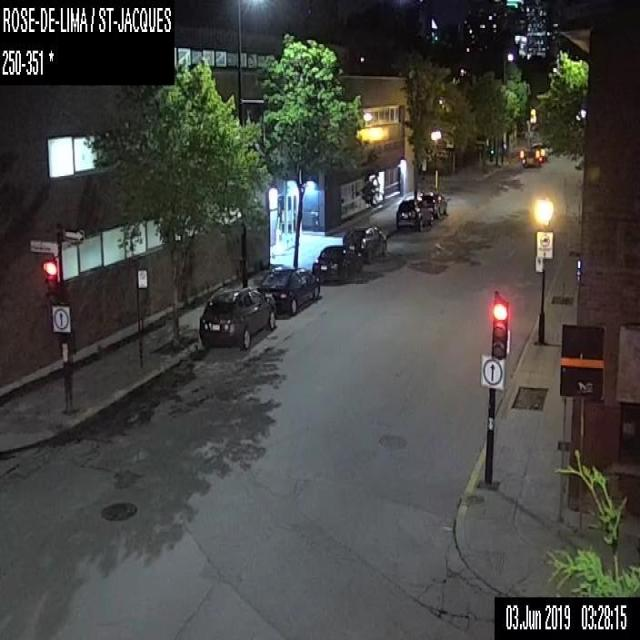pedestrian: (311, 255, 321, 301)
vehicle: (197, 286, 274, 350), (261, 264, 311, 314), (341, 223, 391, 261), (316, 244, 362, 282), (394, 197, 432, 229), (419, 190, 448, 217), (519, 146, 544, 166)
